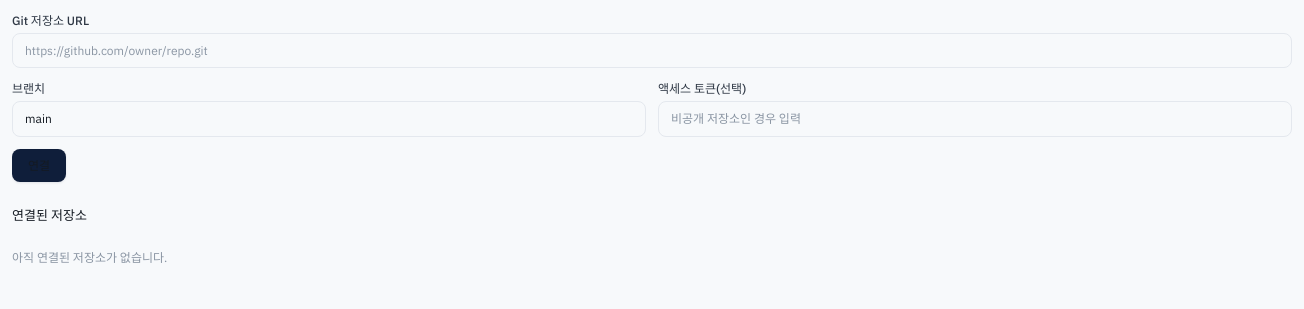
Test case: KnowledgeSourcesClient › handles invalid_git_url response from server
The width and height of the screenshot is (1304, 309).
Expected: the text "아직 연결된 저장소가 없습니다." is shown, x1=12 y1=250 x2=167 y2=265
Type "https://example.com/some-page" into the field with test id "ks-git-url" at {"x": 652, "y": 51}, box x1=12 y1=33 x2=1292 y2=68
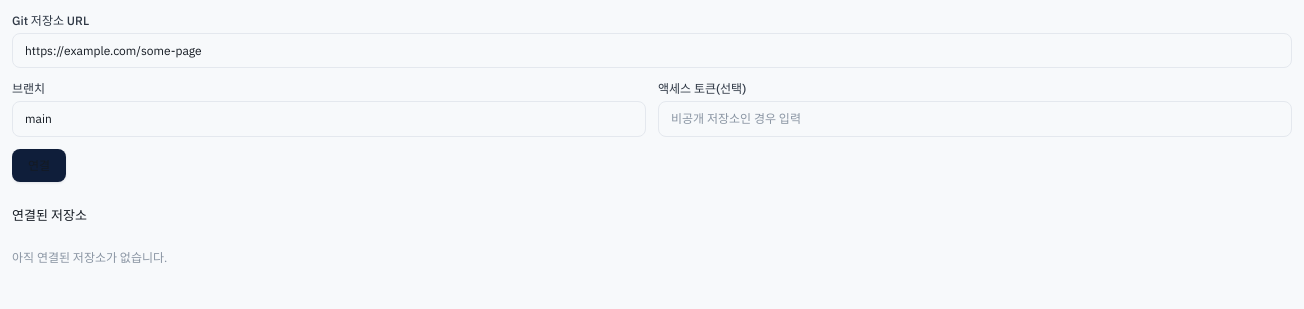
Click the button with test id "ks-submit" at {"x": 39, "y": 165}, box x1=12 y1=149 x2=66 y2=182
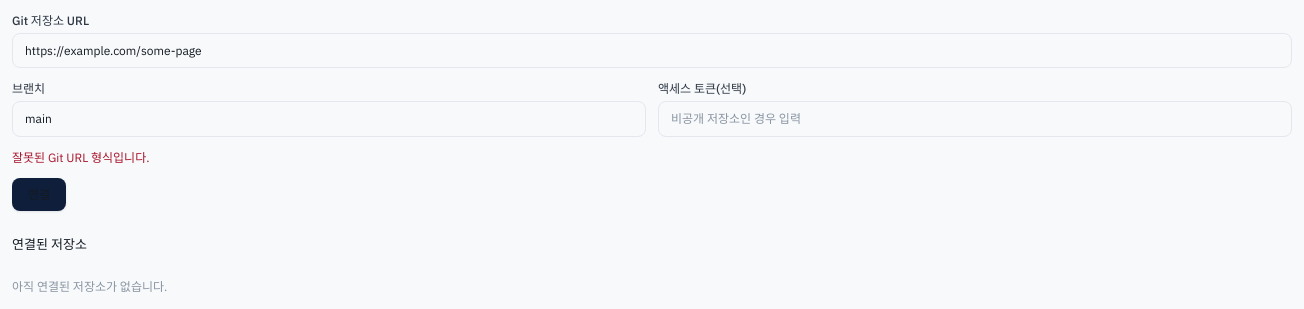
Expected: the message with test id "ks-form-error" reads "잘못된 Git URL 형식입니다.", x1=12 y1=150 x2=150 y2=165
